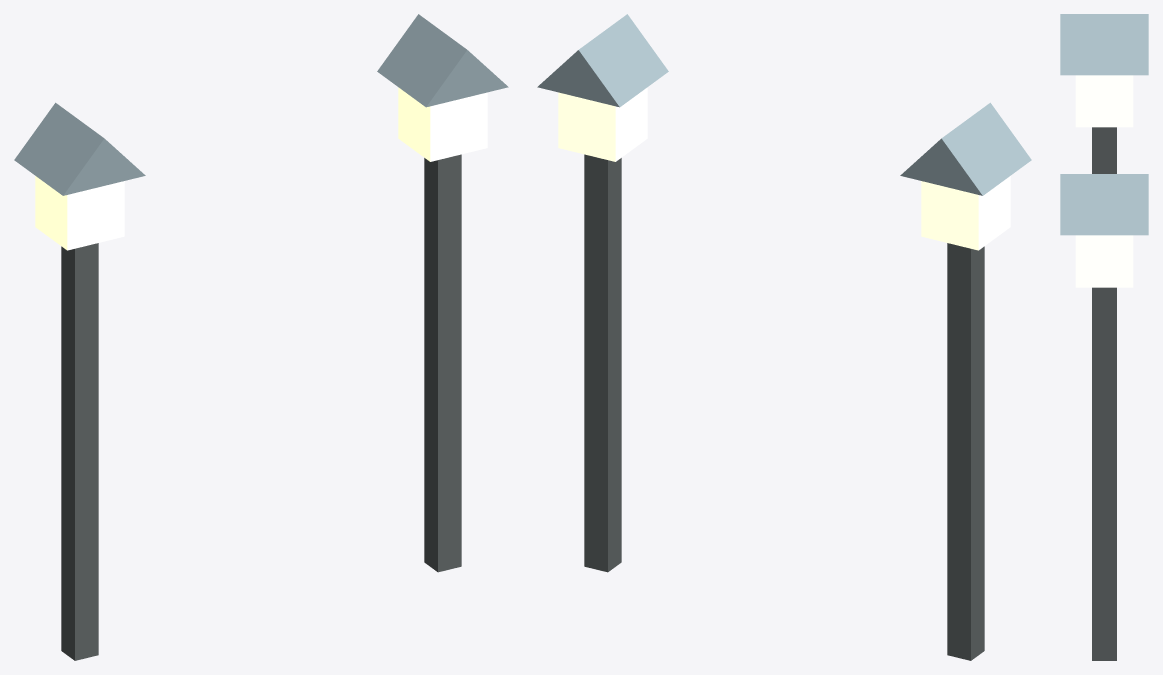
Rendered from trail-lanterns.glb.
3 renders of one model, left to right at view 1: azimuth 30°, elevation 25°; view 2: azimuth 150°, elevation 25°; view 3: azimuth 270°, elevation 25°, orthographic. The views are drawn at different scales.
Visible parts, largest first — view 1: trail-lanterns; view 2: trail-lanterns; view 3: trail-lanterns.
Boxes of the visible parts, left/top/right/bottom form: trail-lanterns: left=14, top=14, right=508, bottom=660; trail-lanterns: left=537, top=14, right=1031, bottom=660; trail-lanterns: left=1060, top=14, right=1148, bottom=660.
Size of the model in its own units: 2.26 by 2.58 by 0.43.
